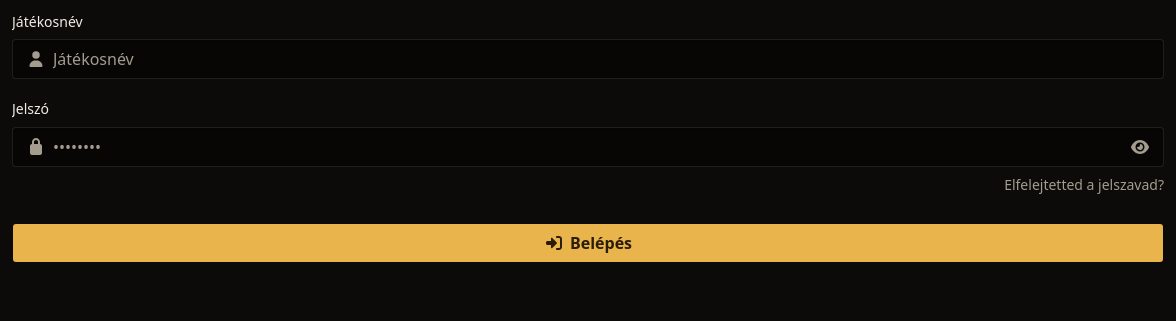
Test case: a wrong code shows under the field and may be typed again
Later steps or results of the test are not shown.
Type "Steve_01" into the field labelled "Játékosnév" at [588, 59], box [12, 39, 1164, 79]
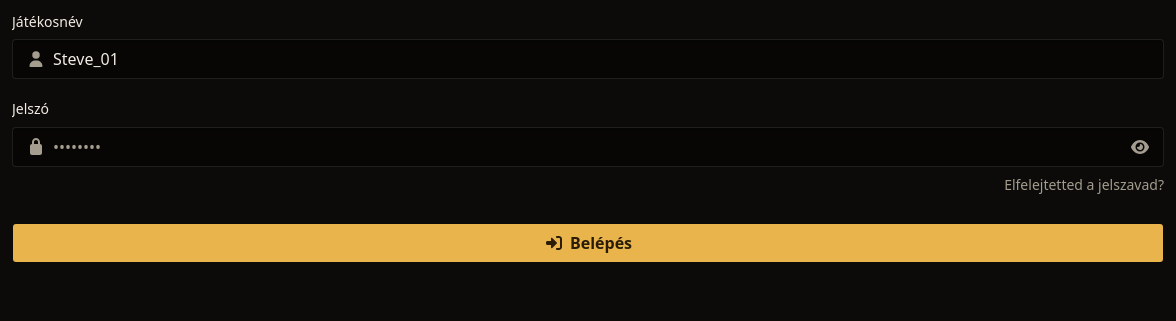
Type "titkos-jelszo" into the password field labelled "Jelszó" at [588, 146], box [12, 126, 1164, 166]
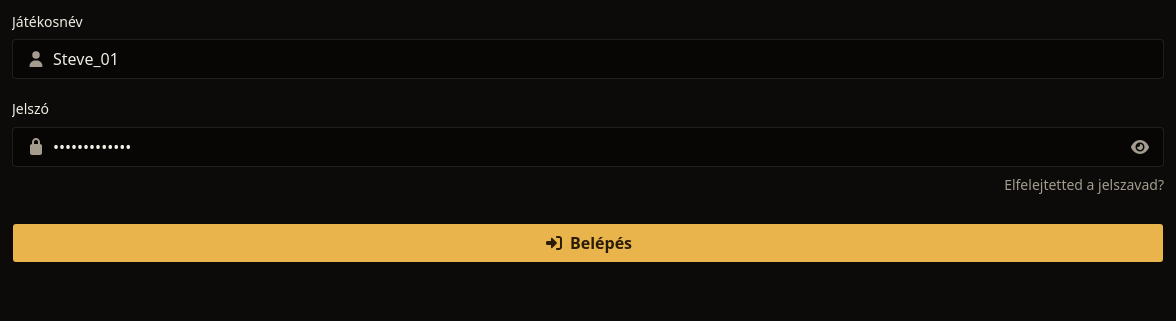
Click the button "Belépés" at [588, 242], box [12, 222, 1164, 262]
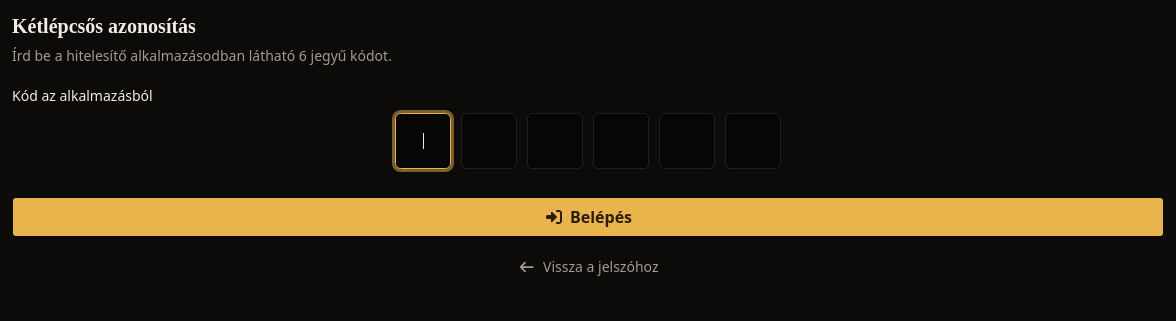
Type "111111" into the field labelled "Kód az alkalmazásból" at [588, 141], box [12, 113, 1164, 169]
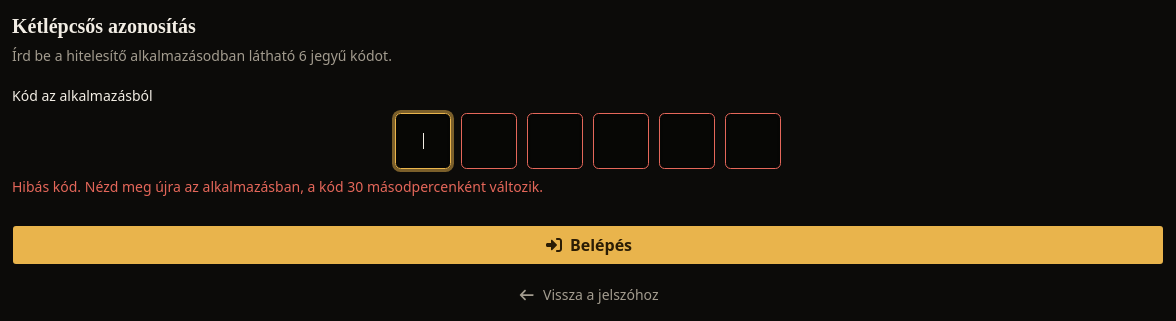
Clear the field labelled "Kód az alkalmazásból" at [588, 141], box [12, 113, 1164, 169]
Expected: the text "Hibás kód. Nézd meg újra az alkalmazásban, a kód 30 másodpercenként változik." is shown, [12, 177, 543, 196]
